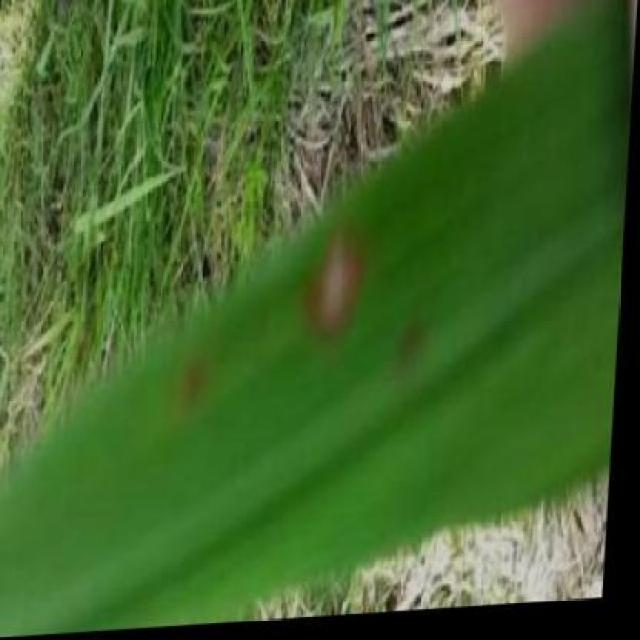Bacterial_Leaf_Blight: (279, 216, 418, 362)
